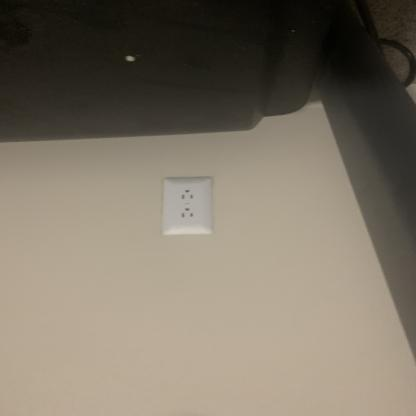OUTLET: (161, 177, 213, 235)
